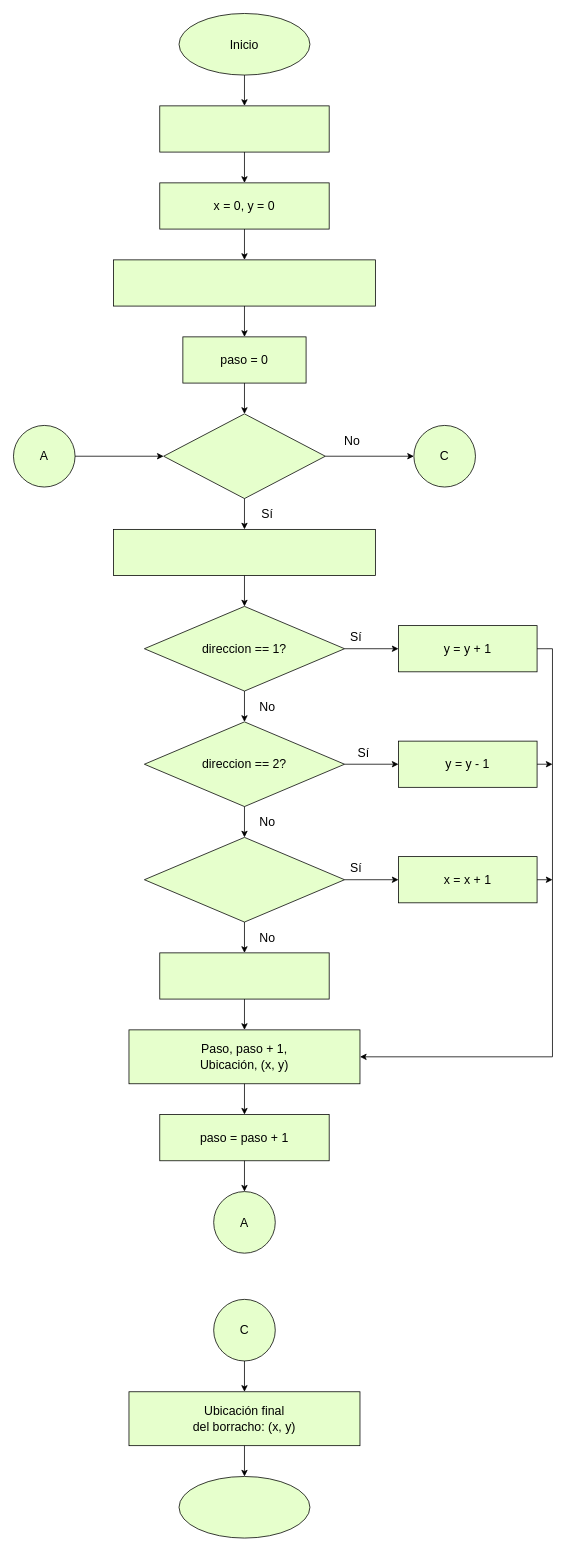
Image size: 572x1552. Some labels were removed from this diagram. Here are the shapes that lost their labels. From the top down, the centre of each, then its label:
(x=244, y=128): import random
(x=244, y=282): Punto de partida: (x, y)
(x=244, y=456): paso < 100?
(x=244, y=552): direccion = random.randint(1, 4)
(x=244, y=879): direccion == 3?
(x=244, y=975): x = x - 1
(x=244, y=1507): Fin
